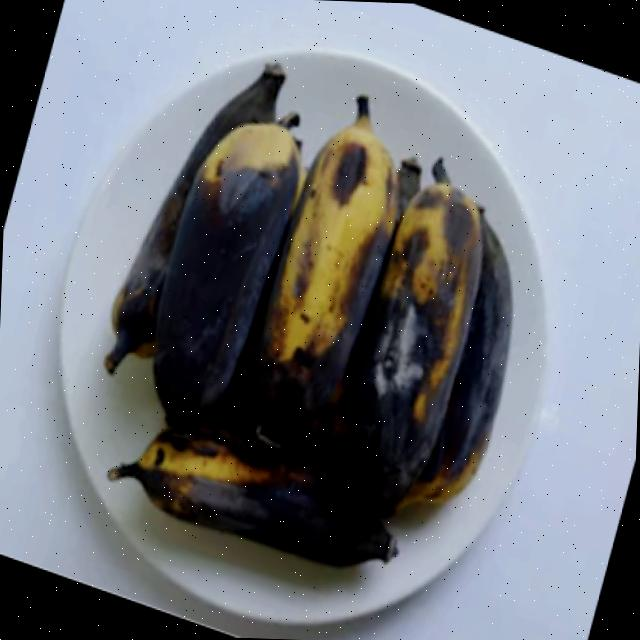rotten banana: (88, 44, 524, 581)
